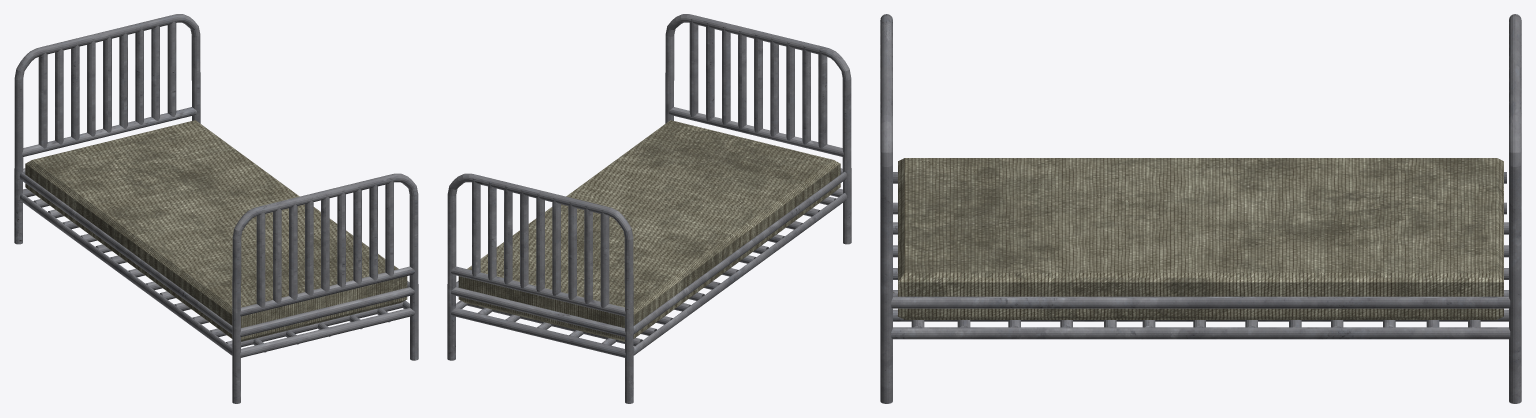
File: yatak.fbx
3 views of the same model, side by side, from view 1: azimuth 30°, elevation 25°; view 2: azimuth 150°, elevation 25°; view 3: azimuth 270°, elevation 25° (orthographic). The views are drawn at different scales.
Parts seen in each view (by area): view 1: yataklık, yatak; view 2: yataklık, yatak; view 3: yatak, yataklık.
Part boxes in pixels (left/top/right/bottom): yataklık: left=14, top=14, right=418, bottom=403; yatak: left=25, top=120, right=407, bottom=341; yataklık: left=447, top=14, right=851, bottom=403; yatak: left=458, top=120, right=840, bottom=341; yatak: left=898, top=158, right=1503, bottom=319; yataklık: left=880, top=14, right=1521, bottom=403.
Size of the model in its own units: 1151 by 1127 by 2394.
Materials: 2 (2 with a texture image).
